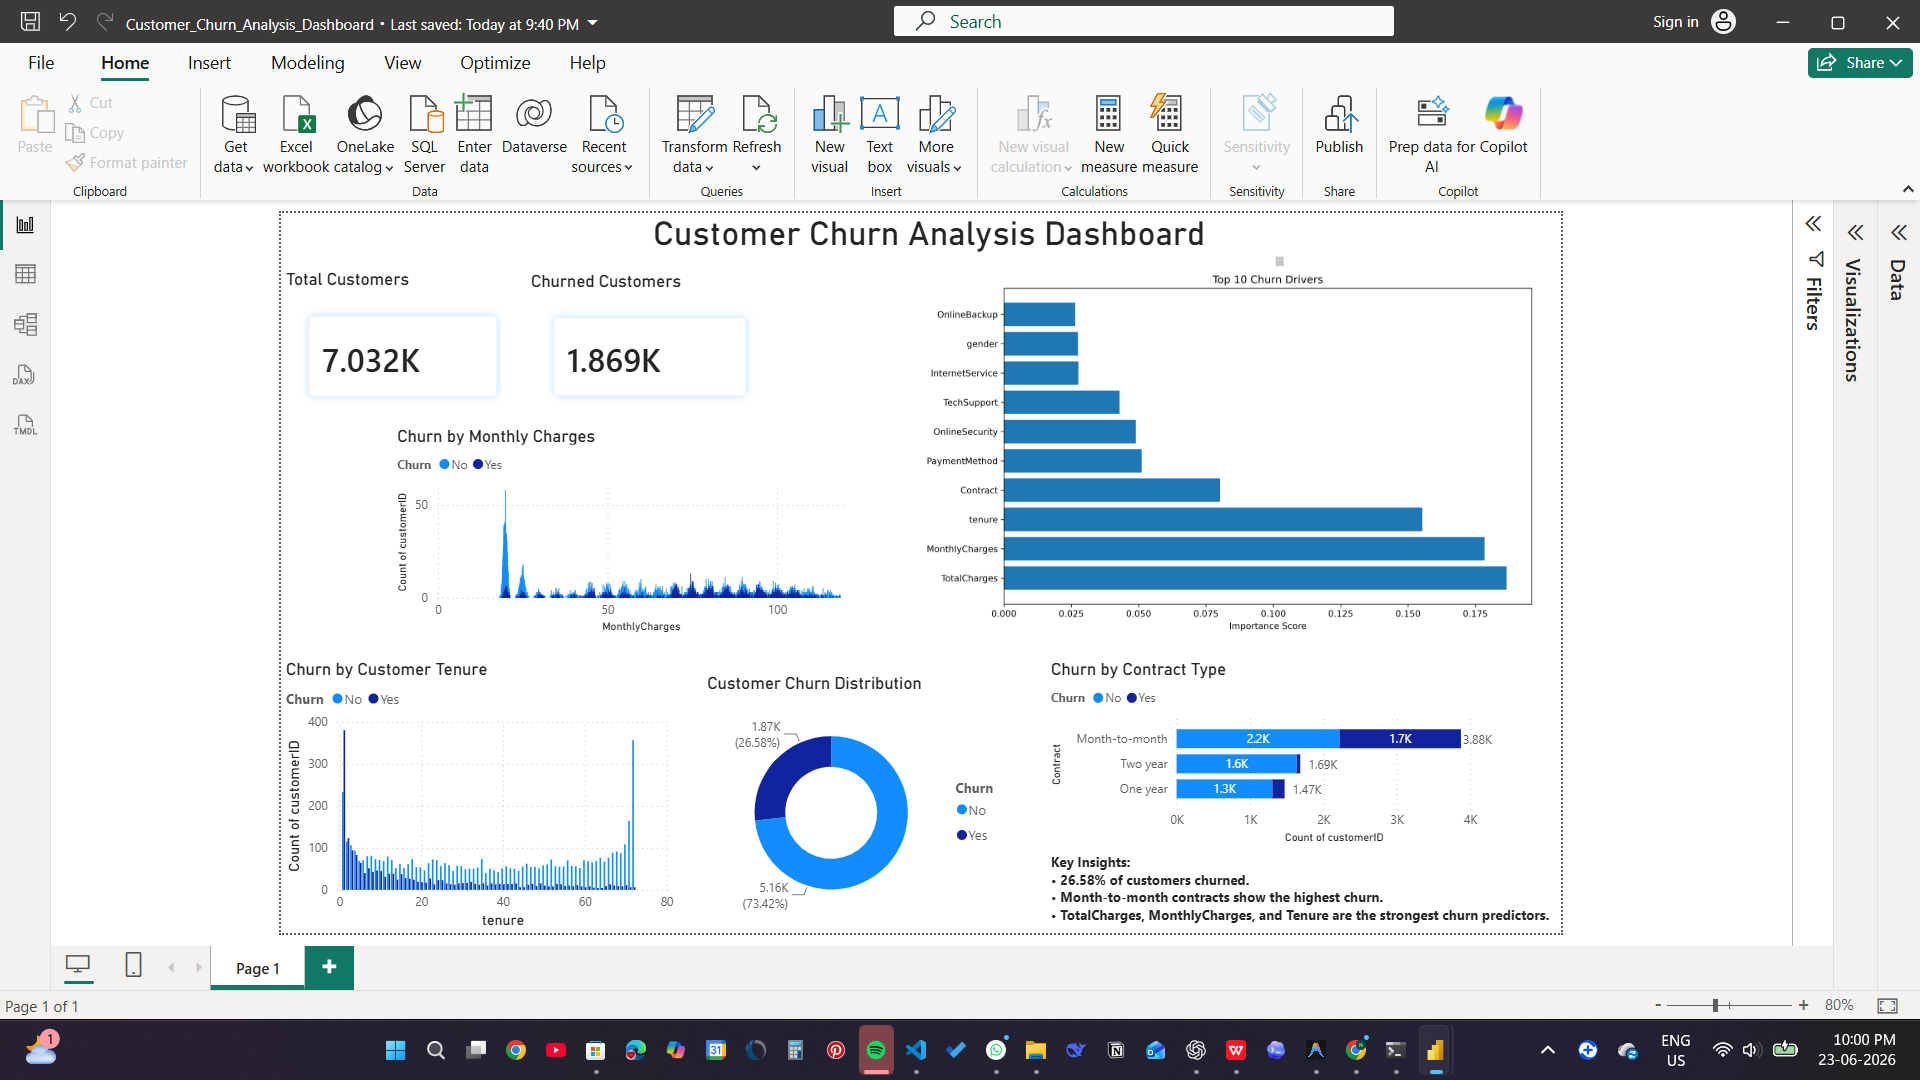

The dashboard page shown, as its layout file describes it:
{"tool":"powerbi","page":{"name":"Page 1","canvas":[1280,720],"ordinal":0},"visuals":[{"type":"donutChart","title":"Customer Churn Distribution","fields":{"Category":["cleaned_telco_churn.Churn"],"Y":["CountNonNull(cleaned_telco_churn.customerID)"]},"box":[421.6,459.5,316.2,260.8],"z":0},{"type":"cardVisual","title":"Churned Customers","fields":{"Data":["Count(cleaned_telco_churn.customerID)"]},"box":[244.6,58.1,248.6,154.1],"z":1000},{"type":"barChart","title":"Churn by Contract Type","fields":{"Category":["cleaned_telco_churn.Contract"],"Y":["CountNonNull(cleaned_telco_churn.customerID)"],"Series":["cleaned_telco_churn.Churn"]},"box":[764.9,445.9,458.1,189.2],"z":2000},{"type":"clusteredColumnChart","title":"Churn by Customer Tenure","fields":{"Category":["cleaned_telco_churn.tenure"],"Y":["CountNonNull(cleaned_telco_churn.customerID)"],"Series":["cleaned_telco_churn.Churn"]},"box":[0,445.9,398.6,274.3],"z":3000},{"type":"clusteredColumnChart","title":"Churn by Monthly Charges","fields":{"Category":["cleaned_telco_churn.MonthlyCharges"],"Y":["CountNonNull(cleaned_telco_churn.customerID)"],"Series":["cleaned_telco_churn.Churn"]},"box":[110.8,212.2,468.9,212.2],"z":4000},{"type":"image","box":[616.3,56.3,664,368.1],"z":5000},{"type":"cardVisual","title":"Total Customers","fields":{"Data":["Count(cleaned_telco_churn.customerID)"]},"box":[0,56.8,244.6,155.4],"z":6000},{"type":"textbox","title":"Customer Churn Analysis Dashboard","box":[367.6,1.4,640.5,56.8],"z":7000},{"type":"textbox","box":[764.9,635.1,514.9,85.1],"z":7002}]}

Visuals, with their boxes in screenshot pixels (x1, y1, x2, y2):
"Customer Churn Distribution" donutChart: region(664, 630, 1131, 1016)
"Churned Customers" cardVisual: region(402, 36, 770, 264)
"Churn by Contract Type" barChart: region(1171, 610, 1849, 889)
"Churn by Customer Tenure" clusteredColumnChart: region(40, 610, 630, 1015)
"Churn by Monthly Charges" clusteredColumnChart: region(204, 264, 898, 578)
image: region(952, 33, 1919, 578)
"Total Customers" cardVisual: region(40, 34, 402, 264)
"Customer Churn Analysis Dashboard" textbox: region(584, 0, 1531, 36)
textbox: region(1171, 889, 1919, 1015)
